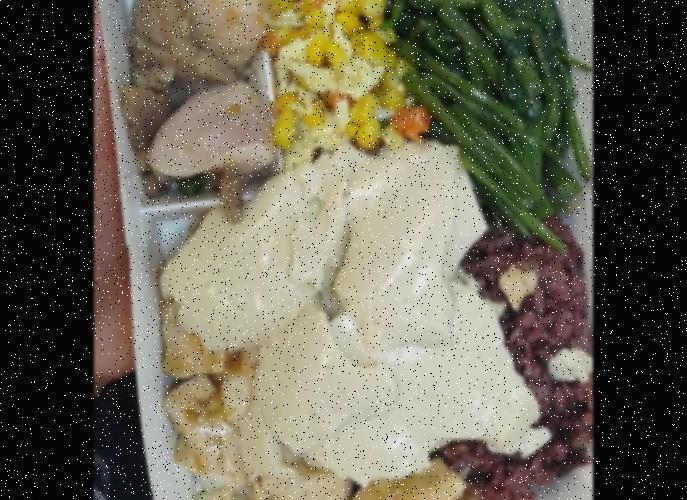box: (100, 0, 593, 500)
purple rice: (418, 190, 593, 500)
scallion chicken: (121, 0, 284, 193)
side dish: (181, 146, 514, 464), (158, 284, 461, 500), (391, 0, 586, 224), (270, 0, 434, 162)
